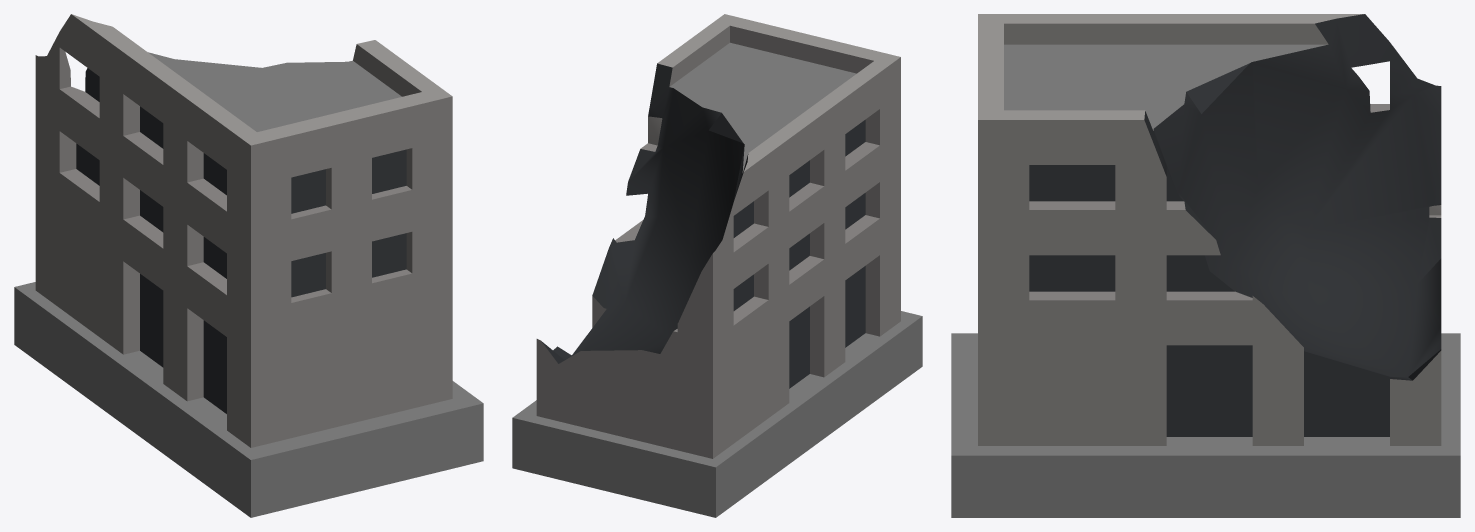
File: SM_Bld_City_Destroyed_07.fbx
3 views of the same model, side by side, from view 1: azimuth 30°, elevation 25°; view 2: azimuth 150°, elevation 25°; view 3: azimuth 270°, elevation 25° (orthographic). The views are drawn at different scales.
Visible parts, largest first — view 1: SM_Bld_City_Destroyed_07; view 2: SM_Bld_City_Destroyed_07; view 3: SM_Bld_City_Destroyed_07.
Part boxes in pixels (x1=…): SM_Bld_City_Destroyed_07: x1=14, y1=14, x2=483, y2=517; SM_Bld_City_Destroyed_07: x1=512, y1=14, x2=922, y2=517; SM_Bld_City_Destroyed_07: x1=951, y1=14, x2=1460, y2=517.
Size of the model in its own units: 38.27 by 56.61 by 67.35.
